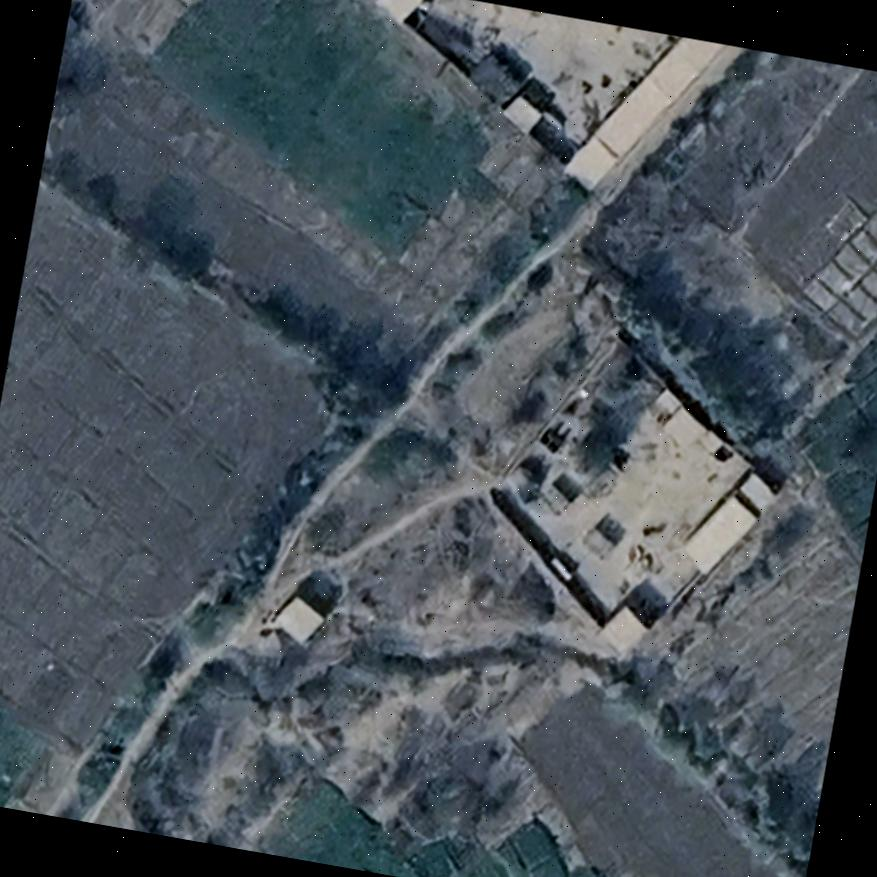Solarpanel: (579, 523, 621, 564), (538, 481, 573, 517)
